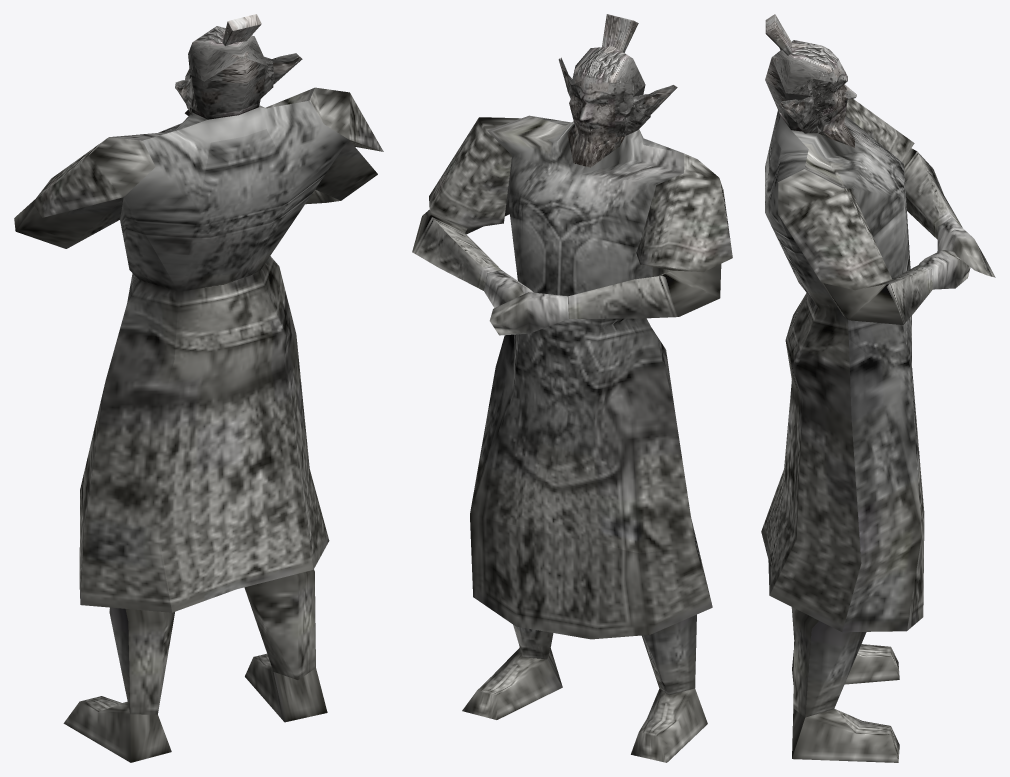
The picture shows the model from 3 angles, left to right: view 1: azimuth 30°, elevation 25°; view 2: azimuth 150°, elevation 25°; view 3: azimuth 270°, elevation 25°; orthographic projection. The views are drawn at different scales.
Parts seen in each view (by area): view 1: np161; view 2: np161; view 3: np161.
Boxes of the visible parts, x1,y1,x2,y2 form: np161: (14, 14, 383, 762); np161: (412, 14, 732, 762); np161: (761, 14, 995, 762).
Size of the model in its own units: 139 by 282 by 86.25.
